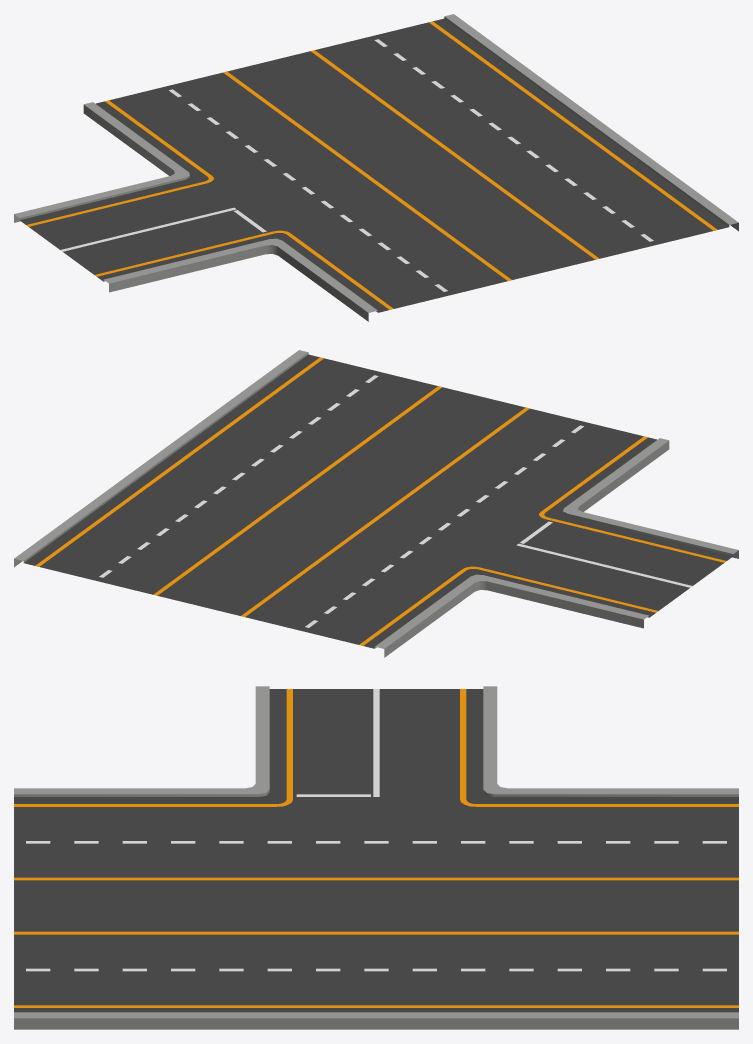
File: Road_A_2L_1_4.fbx
The picture shows the model from 3 angles, top to bottom: view 1: azimuth 30°, elevation 25°; view 2: azimuth 150°, elevation 25°; view 3: azimuth 270°, elevation 25°; orthographic projection. The views are drawn at different scales.
Visible parts, largest first — view 1: Road_A_2L_1_4; view 2: Road_A_2L_1_4; view 3: Road_A_2L_1_4.
Boxes of the visible parts, x1=… form: Road_A_2L_1_4: x1=14, y1=14, x2=738, y2=321; Road_A_2L_1_4: x1=14, y1=350, x2=738, y2=657; Road_A_2L_1_4: x1=14, y1=686, x2=738, y2=1029.
Size of the model in its own units: 2600 by 41.48 by 2400.
